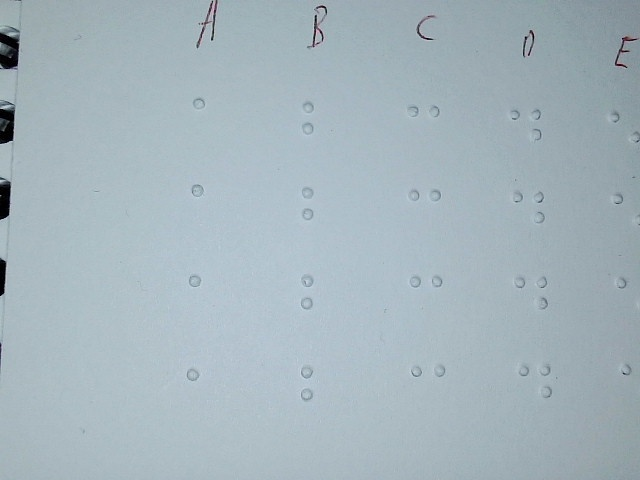A: (184, 88, 236, 159), (184, 174, 236, 245), (181, 264, 233, 335), (178, 357, 230, 428)
B: (294, 93, 341, 160), (294, 179, 341, 246), (294, 266, 341, 333), (294, 357, 341, 424)
C: (402, 96, 446, 161), (403, 181, 447, 246), (404, 266, 448, 331), (406, 356, 450, 421)
